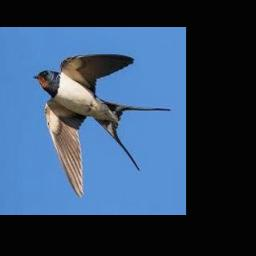Swallow: (34, 54, 171, 197)
